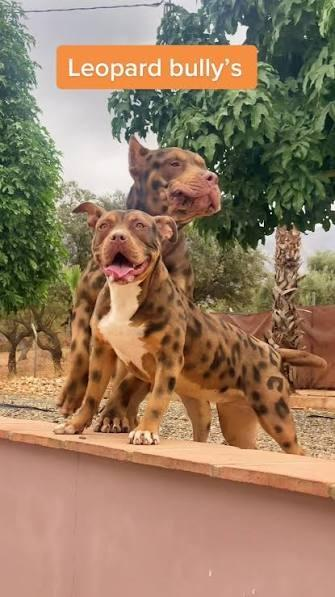adult_dog: (55, 201, 328, 455), (54, 136, 223, 434)
